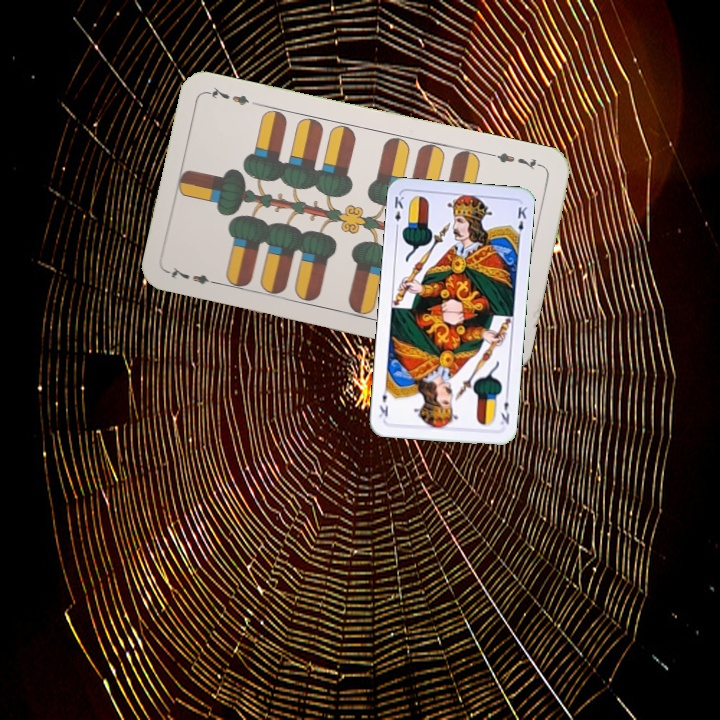E7: (487, 148, 546, 173), (165, 263, 223, 288)
EK: (390, 192, 406, 233), (497, 390, 512, 427)
